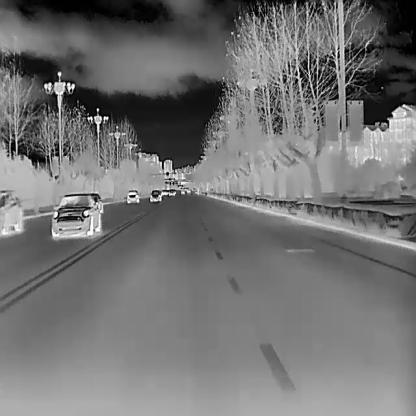car: (50, 192, 100, 235), (0, 187, 23, 233), (126, 189, 139, 203), (150, 189, 160, 201), (168, 189, 174, 195), (180, 190, 185, 194)
